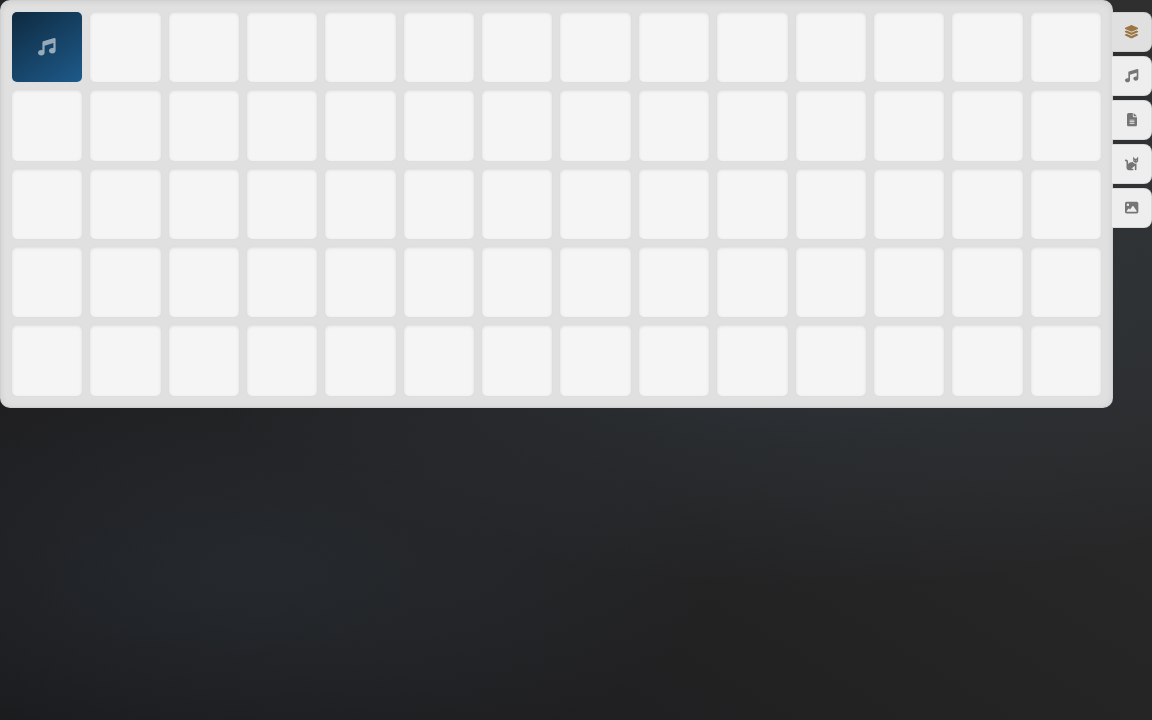
it: CasterInventoryLanding › opens the detail modal when a slot is clicked
The width and height of the screenshot is (1152, 720).
Click the button with test id "bag-slot-rain-window": (47, 47) [11,11,83,83]
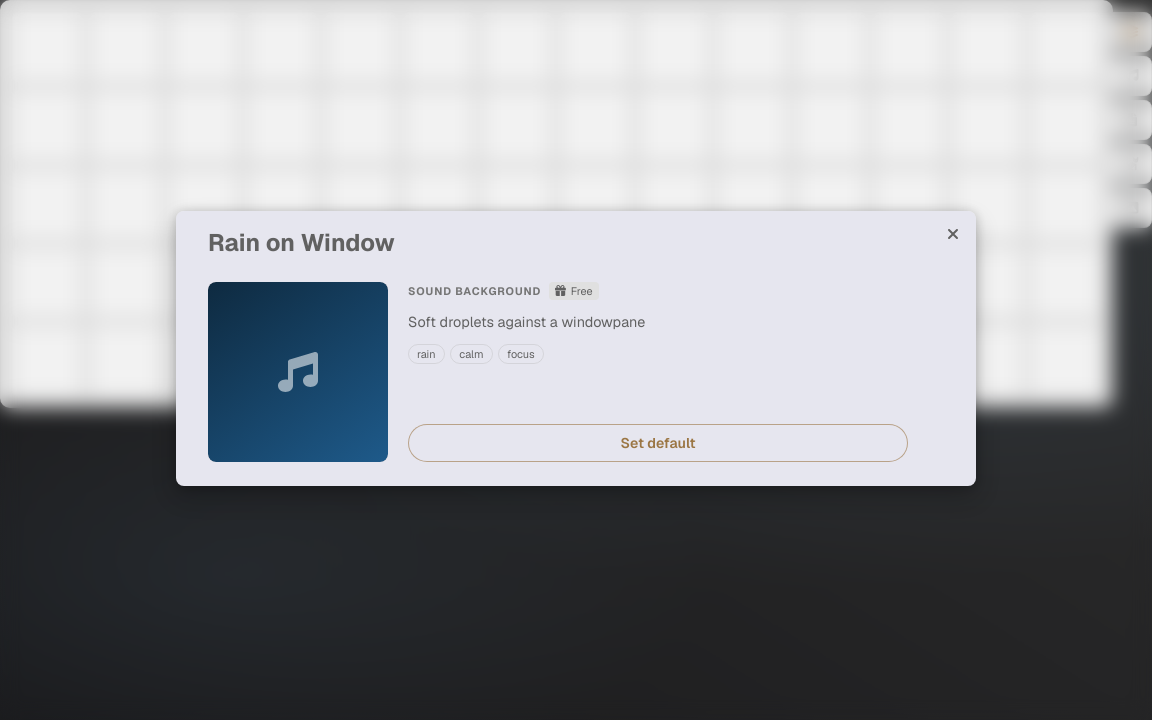
Expected: the element with test id "item-detail" is shown, [192,282,960,470]
